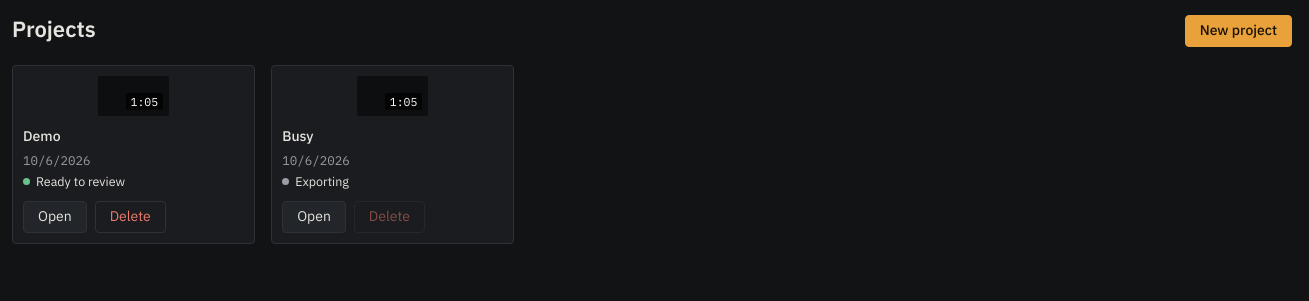
ProjectsHome › shows each project's state and deletes only after confirming
This screenshot has width=1309, height=301.
Check: the text "Ready to review" is shown, box top-left (36, 173), bottom-right (125, 189)
Check: the text "Exporting" is shown, box top-left (295, 173), bottom-right (349, 189)
Click the button "Delete" below "Demo": [130, 216] box top-left (95, 200), bottom-right (166, 232)
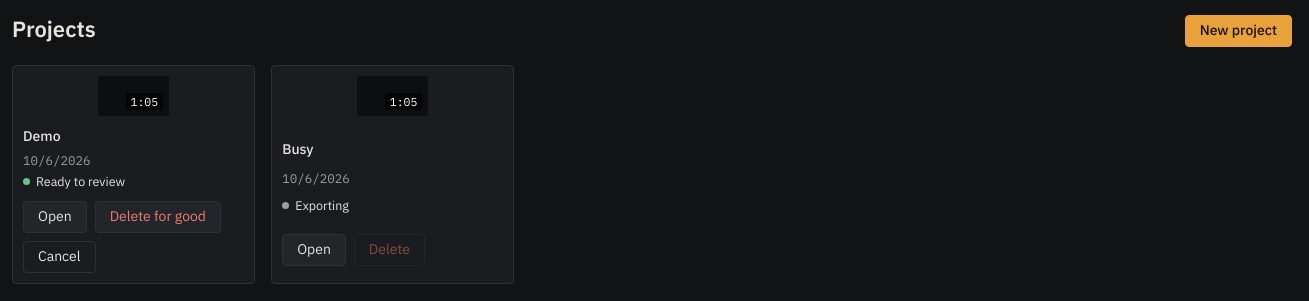
Click the button "Delete for good": [158, 216] box top-left (95, 200), bottom-right (221, 232)
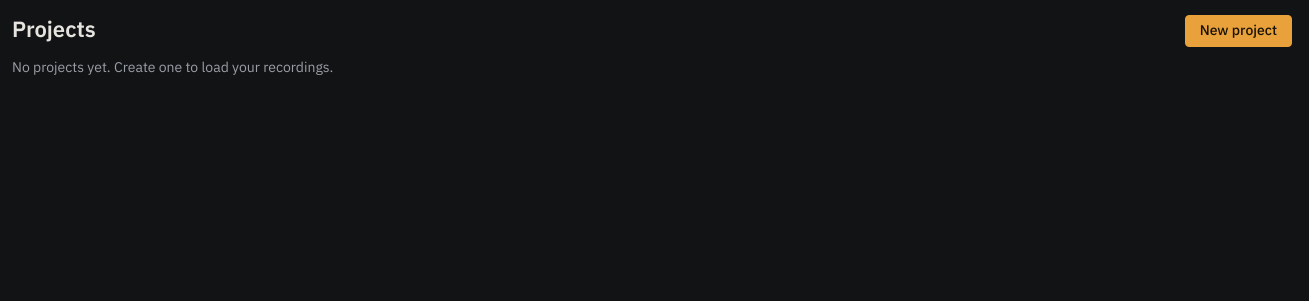
Check: the text "No projects yet. Create one to load your recordings." is shown, box top-left (12, 58), bottom-right (333, 76)
